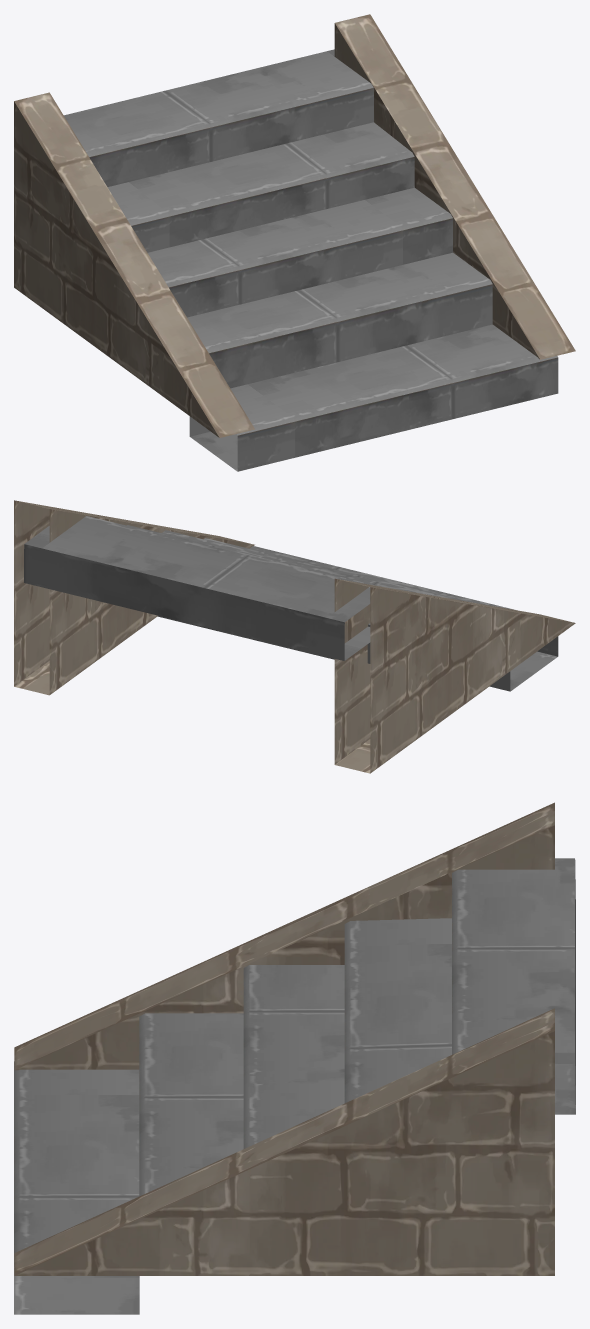
The model's file is Stairs_Exterior_Straight.glb.
3 renders of one model, top to bottom at view 1: azimuth 30°, elevation 25°; view 2: azimuth 150°, elevation 25°; view 3: azimuth 270°, elevation 25°, orthographic. The views are drawn at different scales.
Visible parts, largest first — view 1: Stairs_Exterior_Straight; view 2: Stairs_Exterior_Straight; view 3: Stairs_Exterior_Straight.
Boxes of the visible parts, left/top/right/bottom form: Stairs_Exterior_Straight: left=14, top=14, right=575, bottom=471; Stairs_Exterior_Straight: left=14, top=500, right=575, bottom=773; Stairs_Exterior_Straight: left=14, top=802, right=575, bottom=1314.
Size of the model in its own units: 2 by 1.2 by 2.08.
2 materials, 2 textured.
